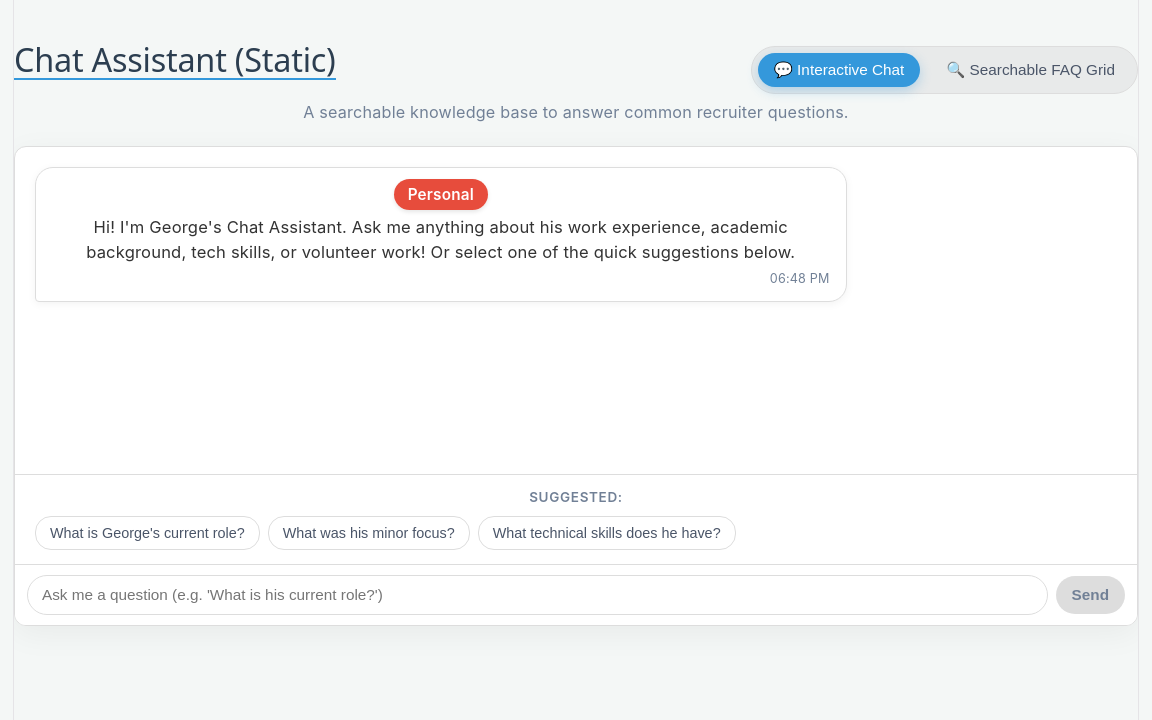
Scenario: CareerAssistant Component › simulates typing and responds to user message in Chat mode
The image size is (1152, 720).
// Type a custom message
Type "What is his current role?" into the field with placeholder "Ask me a question (e.g. 'What is his current role?')" at {"x": 537, "y": 595}, box [27,575,1048,615]
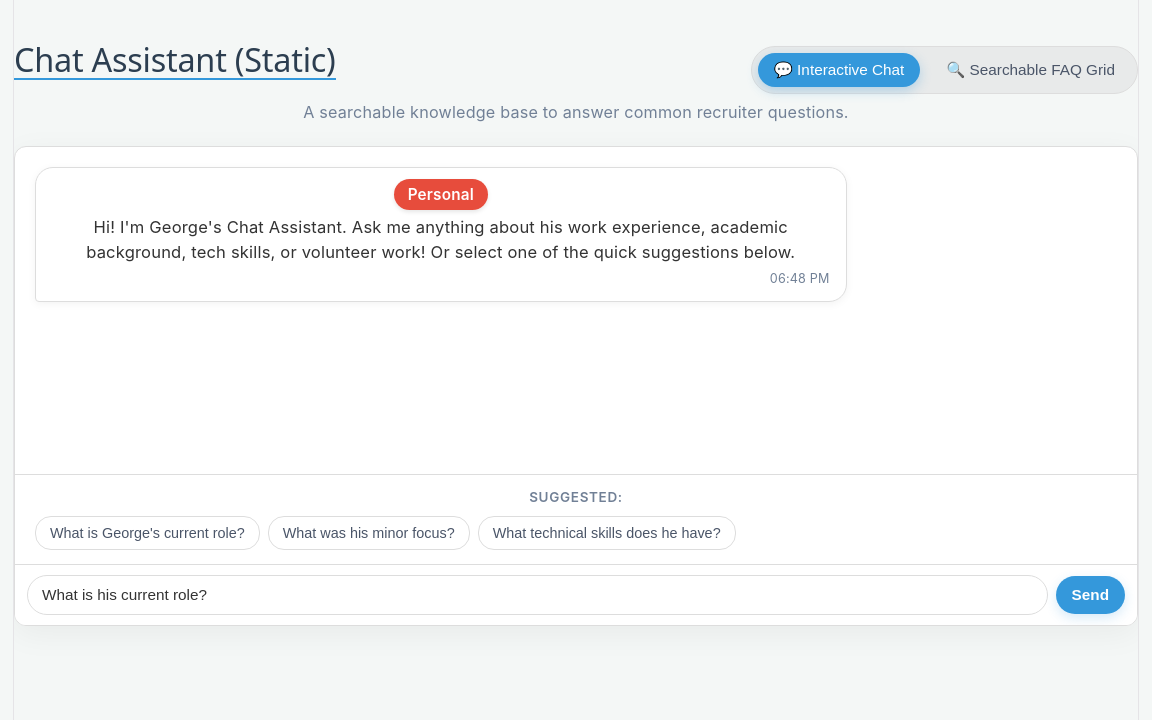
Click the button with aria-label "Send message" at {"x": 1090, "y": 595}, box [1056,576,1125,614]
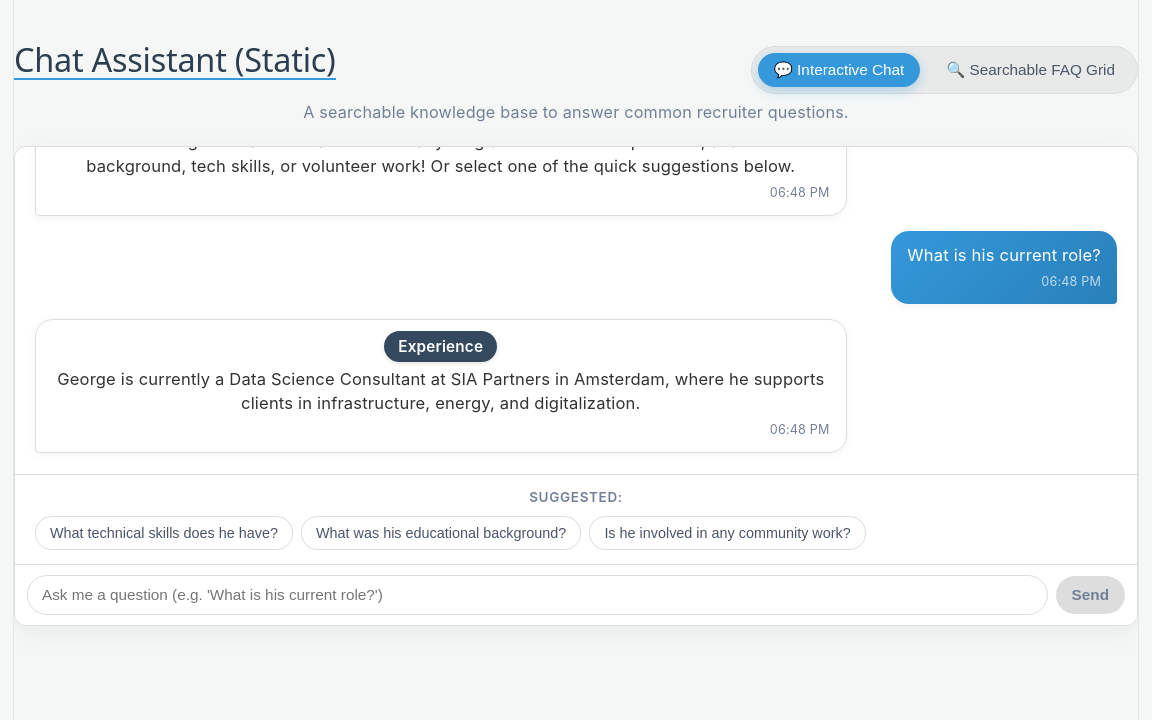
Result: the text "What is his current role?" is shown at [907,243,1101,268]
Result: the text "Data Science Consultant" is shown at [57,369,824,413]
